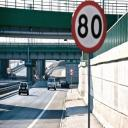speed_limit_60: (69, 67, 74, 77), (6, 67, 12, 75)
speed_limit_80: (70, 0, 108, 55)
